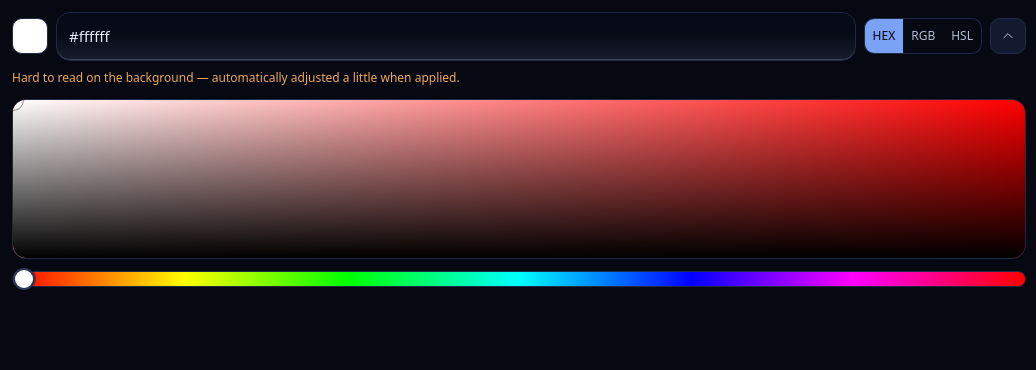
Scenario: ColorPicker › shows whether the colour reads clearly against a given background
The width and height of the screenshot is (1036, 370).
Expected: the text "Hard to read" is shown, [12,68,460,86]
Replace the text in the field named "Colour, as hex" with "#111111": (456, 36) [56,12,856,60]
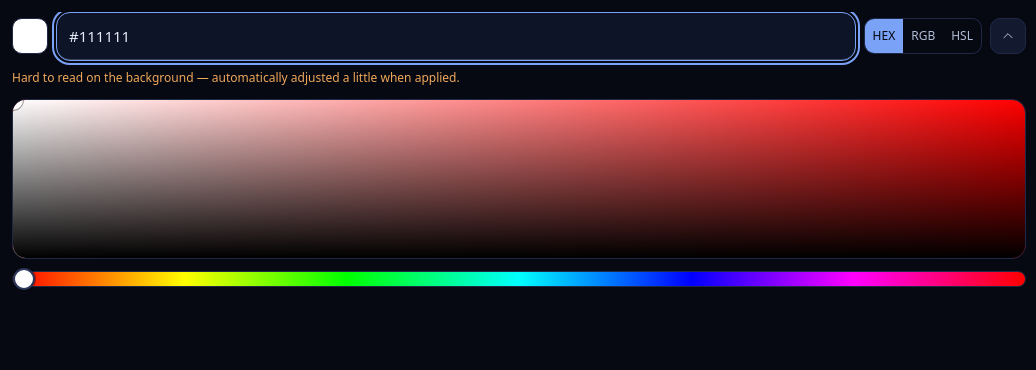
Press Tab
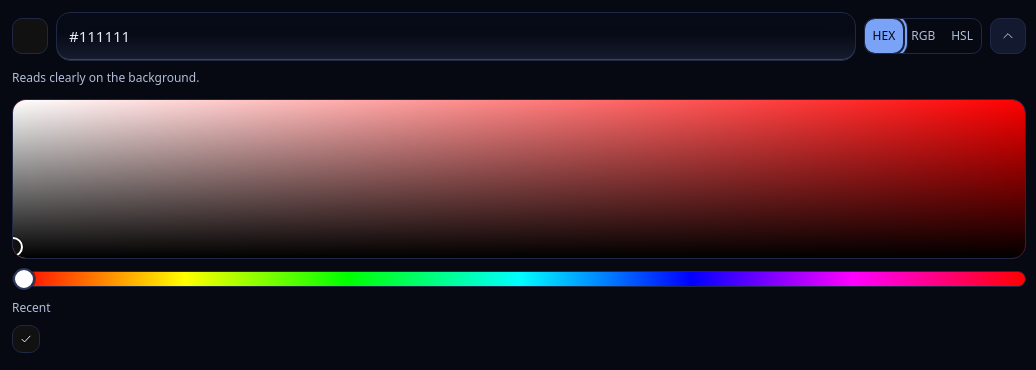
Expected: the text "Reads clearly on the background." is shown, [12,68,199,86]
